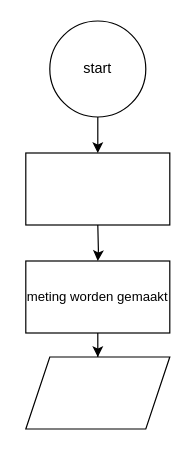
Image size: 194x450. Some labels were removed from this diagram. The shapes that lost their labels are listed below. From the top down, each one's centre as x and y in pixels, then its label:
point 97,188: meting van temperatuur,luchtvochtigheid
point 97,392: toon de meting op de scherm
